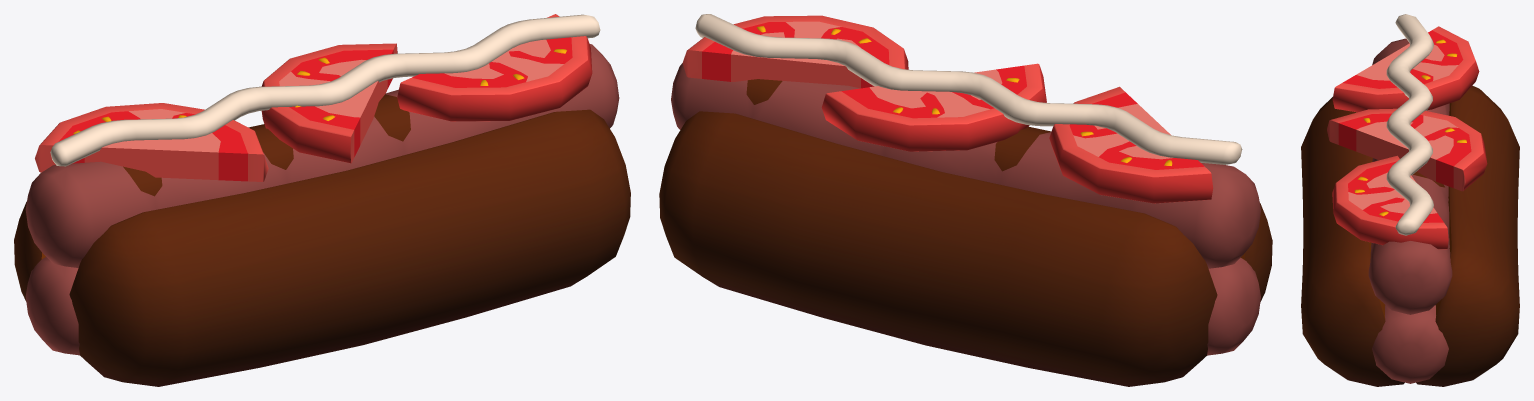
The model's file is HotDog_bun_02.fbx.
3 views of the same model, side by side, from view 1: azimuth 30°, elevation 25°; view 2: azimuth 150°, elevation 25°; view 3: azimuth 270°, elevation 25° (orthographic). The views are drawn at different scales.
Visible parts, largest first — view 1: HotDog_bun_02; view 2: HotDog_bun_02; view 3: HotDog_bun_02.
Boxes of the visible parts, x1,y1,x2,y2 form: HotDog_bun_02: (14, 14, 630, 386); HotDog_bun_02: (659, 14, 1272, 386); HotDog_bun_02: (1301, 14, 1519, 386).
Bounding box in the file's own units: 160 × 67.45 × 66.36.
